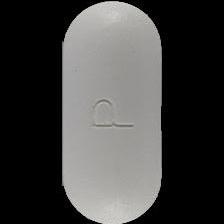68788-9012: (0, 0, 224, 224)
